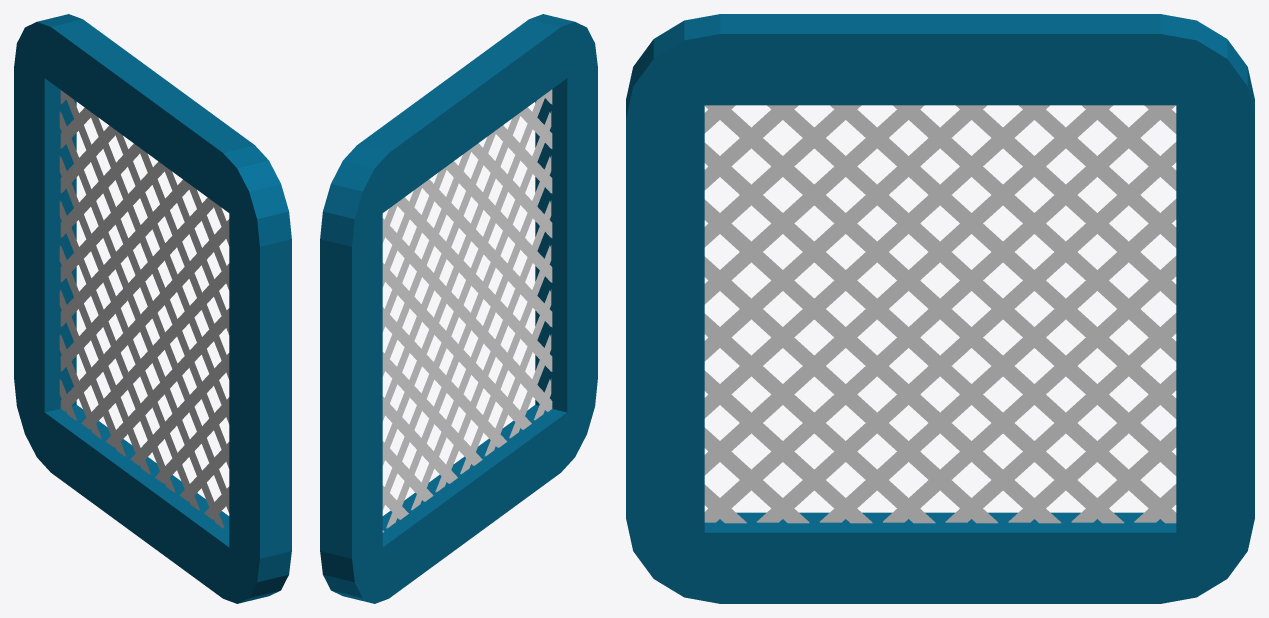
File: G01_017_FenceB.fbx
3 renders of one model, left to right at view 1: azimuth 30°, elevation 25°; view 2: azimuth 150°, elevation 25°; view 3: azimuth 270°, elevation 25°, orthographic. The views are drawn at different scales.
Parts seen in each view (by area): view 1: 002_Fence_B, 平面.060, 平面; view 2: 002_Fence_B, 平面.060, 平面; view 3: 002_Fence_B, 平面, 平面.060.
Boxes of the visible parts, left/top/right/bottom form: 002_Fence_B: left=14, top=14, right=291, bottom=603; 平面.060: left=59, top=90, right=229, bottom=531; 平面: left=60, top=98, right=229, bottom=528; 002_Fence_B: left=320, top=14, right=597, bottom=603; 平面.060: left=382, top=89, right=552, bottom=532; 平面: left=382, top=97, right=551, bottom=528; 002_Fence_B: left=626, top=14, right=1254, bottom=603; 平面: left=704, top=105, right=1176, bottom=523; 平面.060: left=704, top=105, right=1176, bottom=522.
Bounding box in the file's own units: 30 × 400 × 400.
